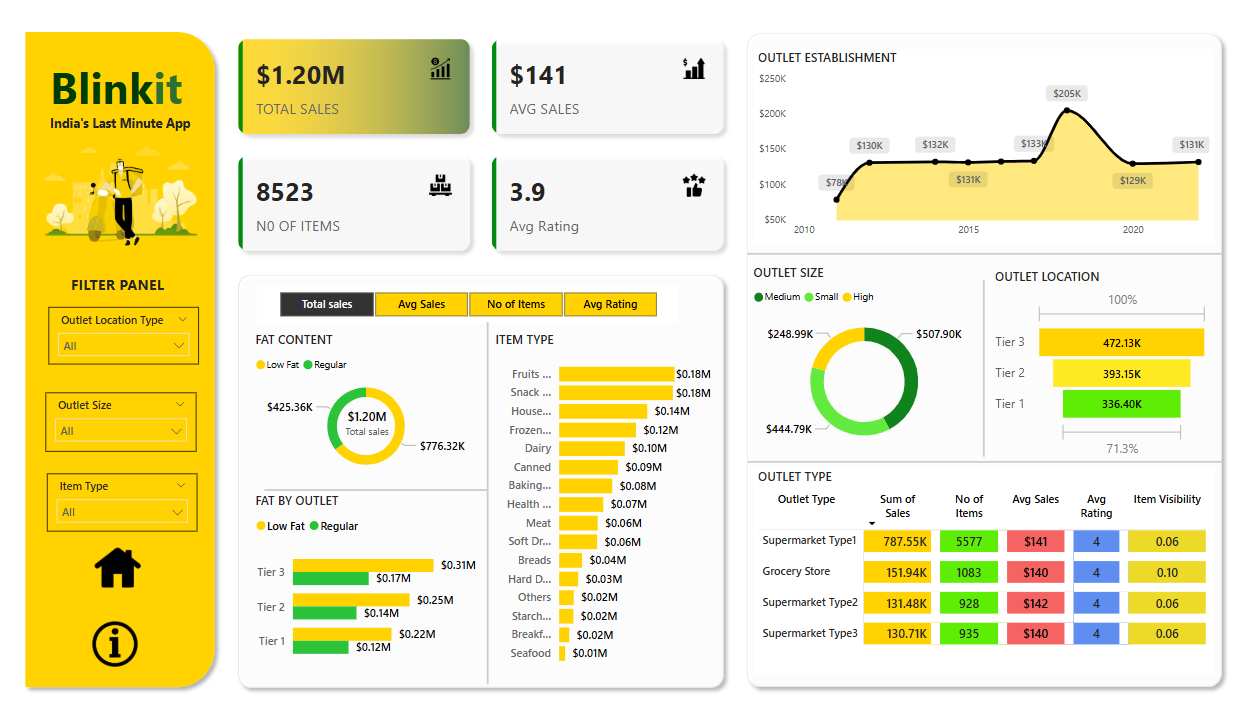

The dashboard page shown, as its layout file describes it:
{"tool":"powerbi","page":{"name":"Page 1","canvas":[1400,800],"ordinal":0},"visuals":[{"type":"shape","box":[39.7,26.5,228.6,743.6],"z":0},{"type":"textbox","box":[68.2,59.9,165.4,80.6],"z":1000},{"type":"textbox","box":[68,122,196,36],"z":2000},{"type":"cardVisual","fields":{"Data":["BlinkIT Grocery Data.Total sales","BlinkIT Grocery Data.Avg Sales","BlinkIT Grocery Data.No of Items","BlinkIT Grocery Data.Avg Rating"]},"box":[263.5,28.8,571.2,269.2],"z":3000},{"type":"shape","box":[272,296,554,474],"z":4000},{"type":"donutChart","title":"FAT CONTENT","fields":{"Y":["BlinkIT Grocery Data.Avg Rating"],"Category":["BlinkIT Grocery Data.Item Fat Content"]},"box":[295,368.3,253.3,165],"z":5000},{"type":"slicer","fields":{"Values":["Metrics.Metrics"]},"box":[294.8,327.9,465.4,39.7],"z":6000},{"type":"cardVisual","fields":{"Data":["BlinkIT Grocery Data.Avg Rating"]},"box":[376,436,94,64],"z":7000},{"type":"clusteredBarChart","title":"FAT BY OUTLET","fields":{"Y":["BlinkIT Grocery Data.Avg Rating"],"Category":["BlinkIT Grocery Data.Outlet Location Type"],"Series":["BlinkIT Grocery Data.Item Fat Content"]},"box":[295,544.2,253.3,200.8],"z":8000},{"type":"textbox","box":[844,29,556,269],"z":9000},{"type":"shape","box":[538.6,357.1,35.7,400],"z":10000},{"type":"shape","box":[310,534,246,20],"z":11000},{"type":"barChart","title":"ITEM TYPE","fields":{"Y":["BlinkIT Grocery Data.Avg Rating"],"Category":["BlinkIT Grocery Data.Item Type"]},"box":[560,367.5,247.5,377.5],"z":12000},{"type":"shape","box":[832.5,30,542.5,740],"z":13000},{"type":"lineChart","title":"OUTLET ESTABLISHMENT","fields":{"Y":["BlinkIT Grocery Data.Total sales"],"Category":["BlinkIT Grocery Data.Outlet Establishment Year"]},"box":[850,56,508,216],"z":14000},{"type":"shape","box":[843.8,508.8,525,7.5],"z":15000},{"type":"donutChart","title":"OUTLET SIZE","fields":{"Y":["BlinkIT Grocery Data.Total sales"],"Category":["BlinkIT Grocery Data.Outlet Size"]},"box":[844.3,292.9,254.3,215.7],"z":16000},{"type":"shape","box":[1096.2,311.2,15,195],"z":17000},{"type":"funnel","title":"OUTLET LOCATION","fields":{"Category":["BlinkIT Grocery Data.Outlet Location Type"],"Y":["Sum(BlinkIT Grocery Data.Sales)"]},"box":[1111.2,297.5,246.2,213.8],"z":18000},{"type":"shape","box":[842.5,277.5,525,8.3],"z":19000},{"type":"pivotTable","title":"OUTLET TYPE","fields":{"Rows":["BlinkIT Grocery Data.Outlet Type"],"Values":["Sum(BlinkIT Grocery Data.Sales)","BlinkIT Grocery Data.No of Items","BlinkIT Grocery Data.Avg Sales","BlinkIT Grocery Data.Avg Rating","Avg(BlinkIT Grocery Data.Item Visibility)"]},"box":[850.1,517.8,509,228],"z":20000},{"type":"slicer","fields":{"Values":["BlinkIT Grocery Data.Outlet Location Type"]},"box":[70.7,341.1,166.1,63.6],"z":21000},{"type":"slicer","fields":{"Values":["BlinkIT Grocery Data.Outlet Size"]},"box":[68.3,435,166.7,65],"z":22000},{"type":"slicer","fields":{"Values":["BlinkIT Grocery Data.Item Type"]},"box":[69,525,166,64],"z":23000},{"type":"textbox","box":[91.1,299.8,145.7,38.1],"z":24000},{"type":"image","box":[114,590,66,78],"z":25000},{"type":"image","box":[61.9,139.6,182,160.8],"z":26000},{"type":"image","box":[124.2,684,59.6,61.3],"z":27000}]}

Visuals, with their boxes in screenshot pixels (x1, y1, x2, y2), scaled from the page's 1400x800 canvas onto the 1242x716 screenshot:
shape: {"left": 35, "top": 24, "right": 238, "bottom": 689}
textbox: {"left": 61, "top": 54, "right": 207, "bottom": 126}
textbox: {"left": 60, "top": 109, "right": 234, "bottom": 141}
cardVisual - BlinkIT Grocery Data.Total sales x BlinkIT Grocery Data.Avg Sales: {"left": 234, "top": 26, "right": 740, "bottom": 267}
shape: {"left": 241, "top": 265, "right": 733, "bottom": 689}
"FAT CONTENT" donutChart: {"left": 262, "top": 330, "right": 486, "bottom": 477}
slicer - Metrics.Metrics: {"left": 262, "top": 293, "right": 674, "bottom": 329}
cardVisual - BlinkIT Grocery Data.Avg Rating: {"left": 334, "top": 390, "right": 417, "bottom": 448}
"FAT BY OUTLET" clusteredBarChart: {"left": 262, "top": 487, "right": 486, "bottom": 667}
textbox: {"left": 749, "top": 26, "right": 1241, "bottom": 267}
shape: {"left": 478, "top": 320, "right": 509, "bottom": 678}
shape: {"left": 275, "top": 478, "right": 493, "bottom": 496}
"ITEM TYPE" barChart: {"left": 497, "top": 329, "right": 716, "bottom": 667}
shape: {"left": 739, "top": 27, "right": 1220, "bottom": 689}
"OUTLET ESTABLISHMENT" lineChart: {"left": 754, "top": 50, "right": 1205, "bottom": 243}
shape: {"left": 749, "top": 455, "right": 1214, "bottom": 462}
"OUTLET SIZE" donutChart: {"left": 749, "top": 262, "right": 975, "bottom": 455}
shape: {"left": 972, "top": 279, "right": 986, "bottom": 453}
"OUTLET LOCATION" funnel: {"left": 986, "top": 266, "right": 1204, "bottom": 458}
shape: {"left": 747, "top": 248, "right": 1213, "bottom": 256}
"OUTLET TYPE" pivotTable: {"left": 754, "top": 463, "right": 1206, "bottom": 667}
slicer - BlinkIT Grocery Data.Outlet Location Type: {"left": 63, "top": 305, "right": 210, "bottom": 362}
slicer - BlinkIT Grocery Data.Outlet Size: {"left": 61, "top": 389, "right": 208, "bottom": 448}
slicer - BlinkIT Grocery Data.Item Type: {"left": 61, "top": 470, "right": 208, "bottom": 527}
textbox: {"left": 81, "top": 268, "right": 210, "bottom": 302}
image: {"left": 101, "top": 528, "right": 160, "bottom": 598}
image: {"left": 55, "top": 125, "right": 216, "bottom": 269}
image: {"left": 110, "top": 612, "right": 163, "bottom": 667}
